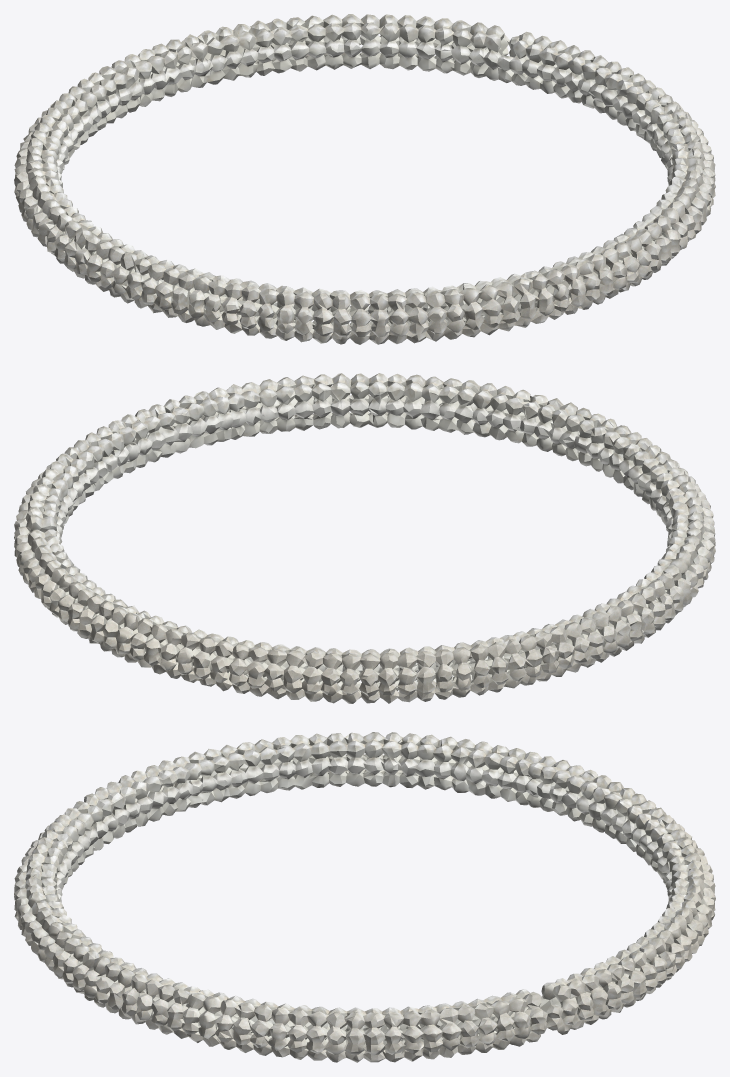
File: ring_pearl_beaded.glb
3 renders of one model, top to bottom at view 1: azimuth 30°, elevation 25°; view 2: azimuth 150°, elevation 25°; view 3: azimuth 270°, elevation 25°, orthographic.
Bounding box in the file's own units: 1.89 × 0.1477 × 1.89.
Materials: 1 (1 with a texture image).
